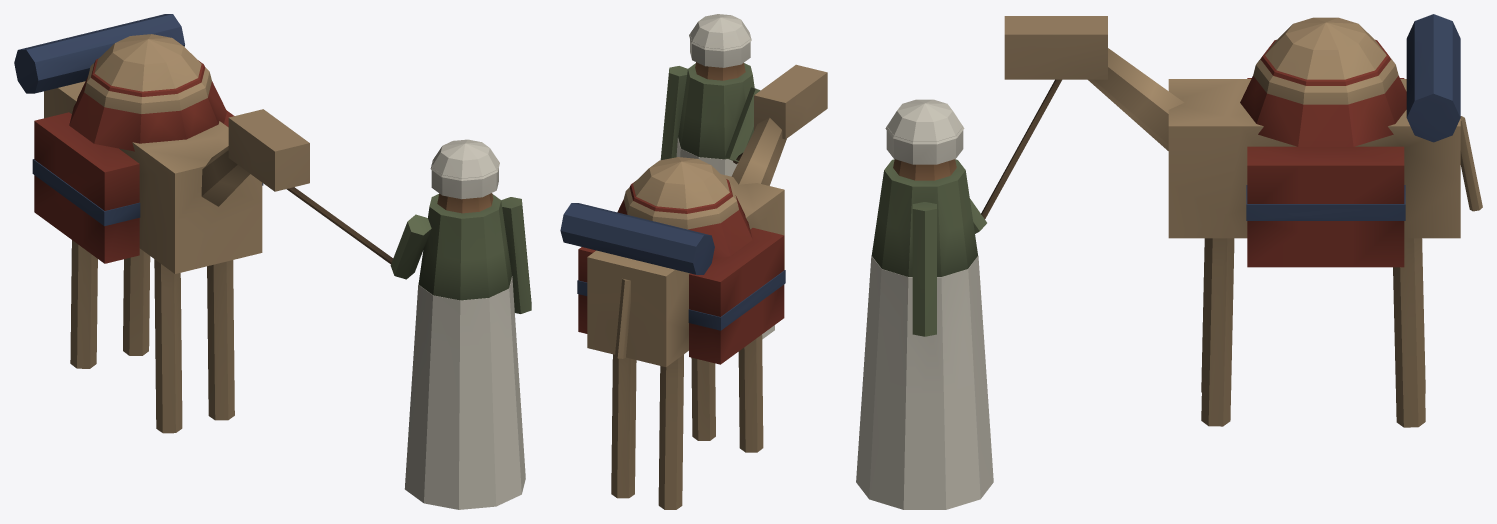
File: mule.glb
The picture shows the model from 3 angles, left to right: view 1: azimuth 30°, elevation 25°; view 2: azimuth 150°, elevation 25°; view 3: azimuth 270°, elevation 25°; orthographic projection. The views are drawn at different scales.
Parts seen in each view (by area): view 1: base; view 2: base; view 3: base.
Part boxes in pixels (box(x1,y1,x2,y2)): base: box(14, 14, 531, 509); base: box(560, 14, 827, 509); base: box(856, 14, 1482, 509).
Bounding box in the file's own units: 1.43 × 1.67 × 2.46.
